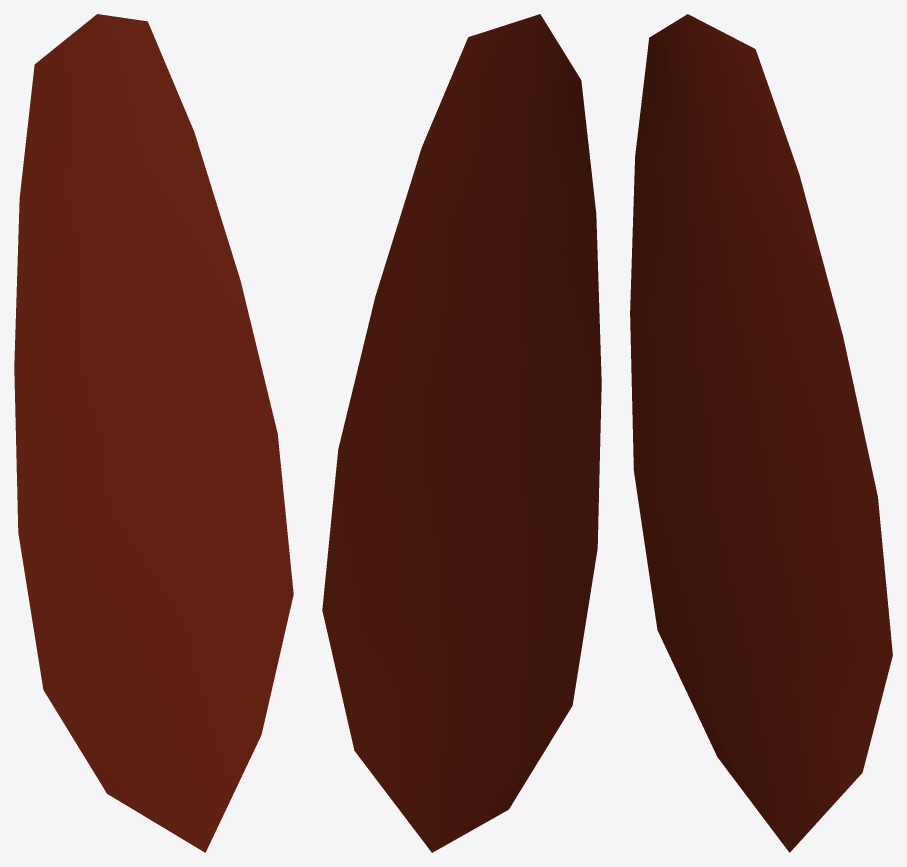
The model's file is pheasant_feather_flight_tertiary_024.obj.
3 renders of one model, left to right at view 1: azimuth 30°, elevation 25°; view 2: azimuth 150°, elevation 25°; view 3: azimuth 330°, elevation 25°, orthographic. The views are drawn at different scales.
Parts seen in each view (by area): view 1: feather_flight_tertiary_024; view 2: feather_flight_tertiary_024; view 3: feather_flight_tertiary_024.
Part boxes in pixels (<box>): feather_flight_tertiary_024: <box>14,14,293,852</box>; feather_flight_tertiary_024: <box>322,14,601,852</box>; feather_flight_tertiary_024: <box>630,14,892,852</box>.
Size of the model in its own units: 0.00947 by 0.028 by 0.000634.
